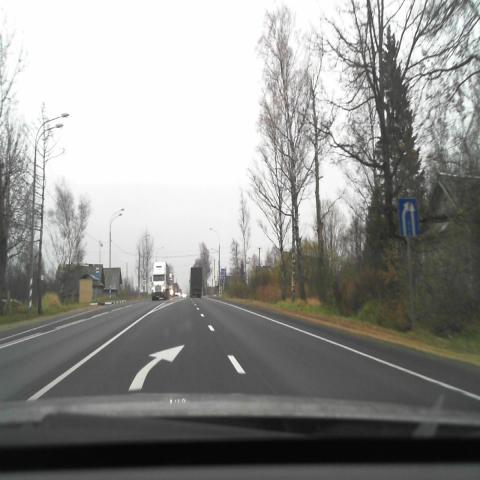5_15_5: (399, 199, 419, 236)
